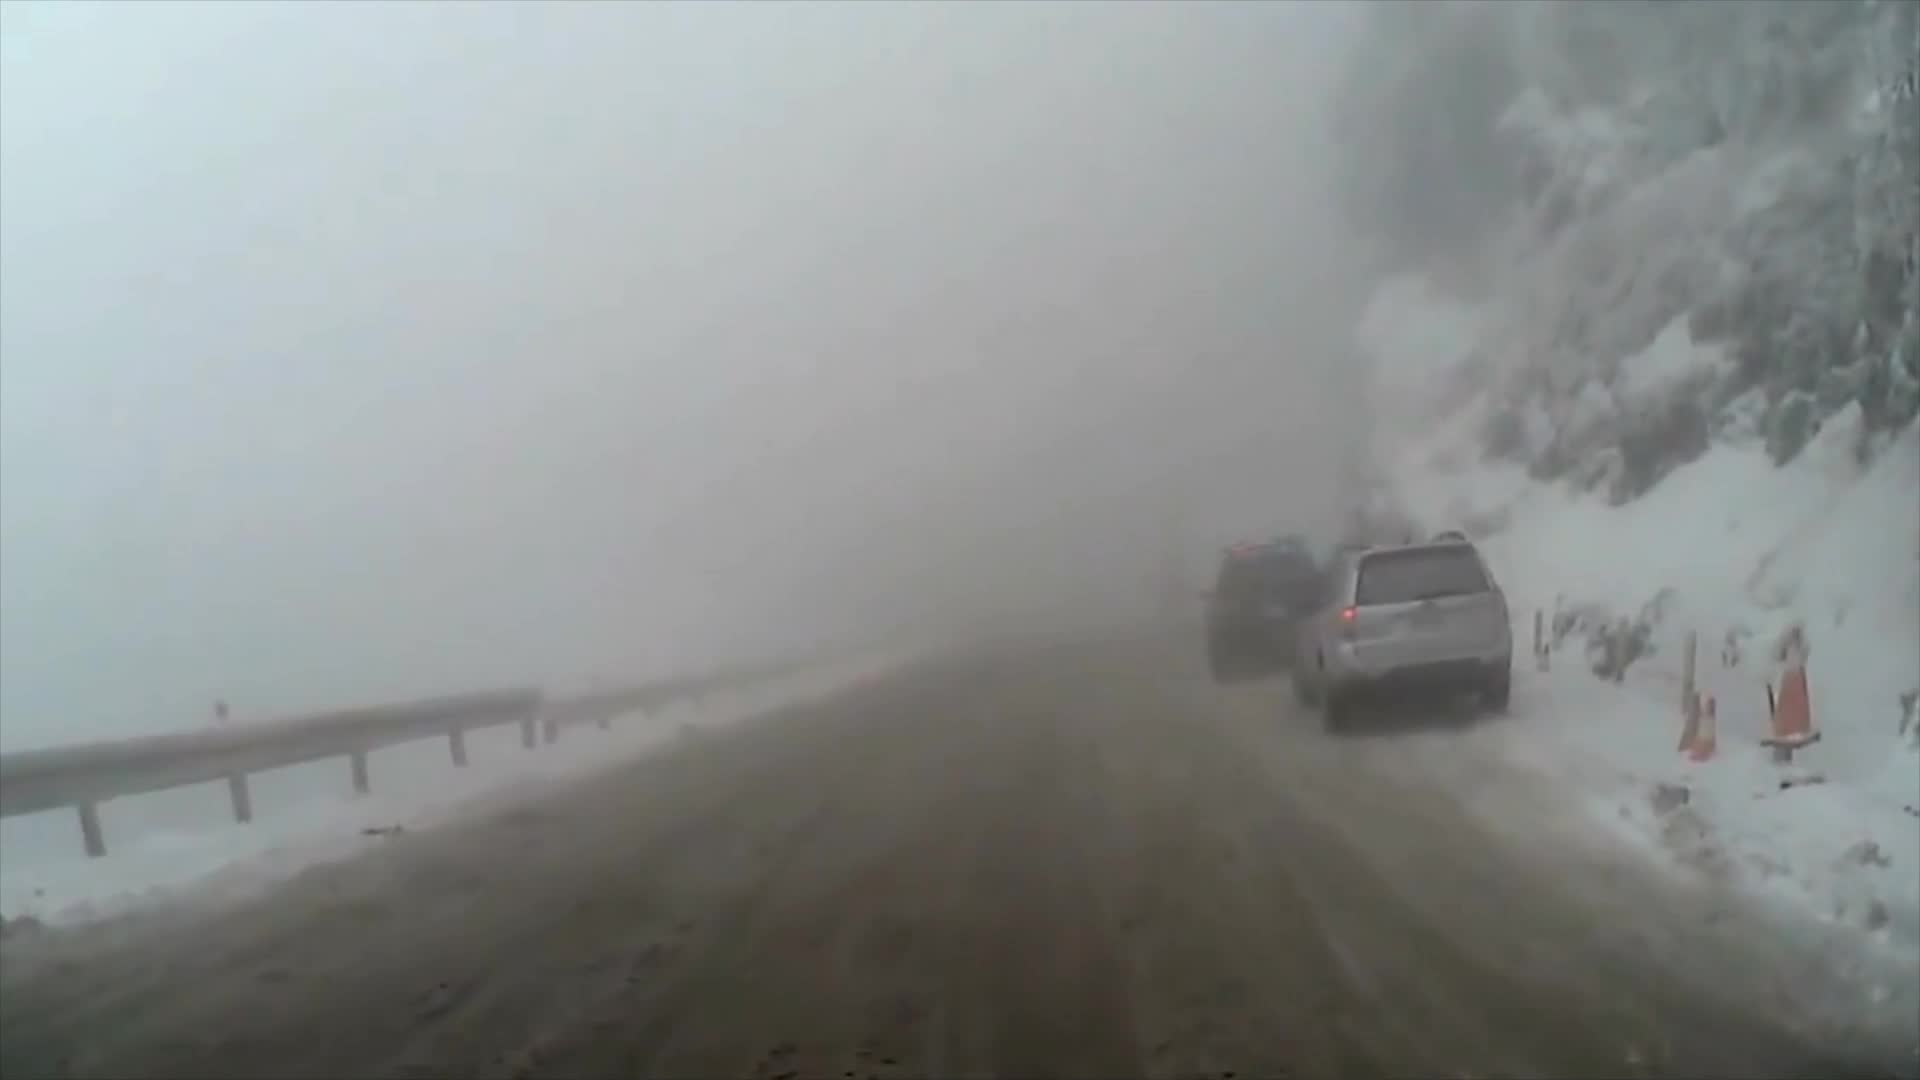vehicle: (1288, 530, 1511, 733), (1193, 534, 1333, 684)
